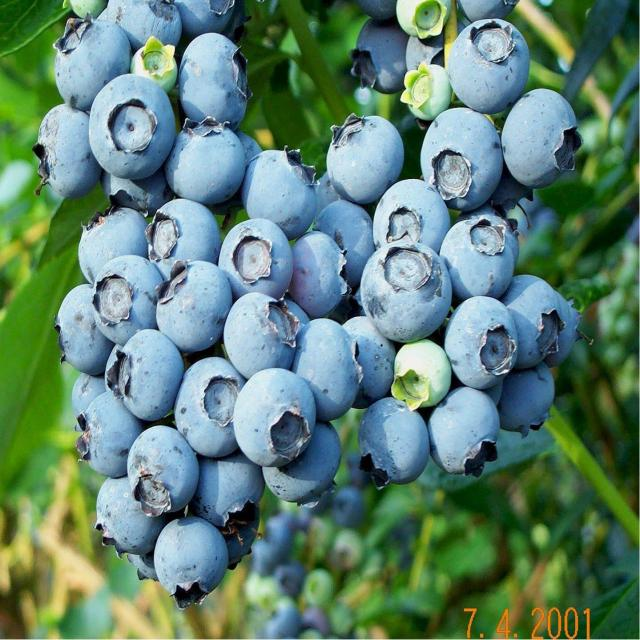BlueBerry - v1: (82, 65, 180, 185), (356, 232, 459, 342), (228, 359, 321, 473), (414, 100, 506, 213), (495, 81, 587, 192), (41, 4, 138, 109), (260, 410, 354, 516), (442, 11, 534, 114), (149, 254, 239, 358), (425, 377, 509, 487), (170, 350, 252, 462), (172, 26, 257, 134), (105, 323, 190, 430), (123, 419, 210, 523), (356, 388, 437, 498), (146, 514, 238, 610), (288, 311, 367, 422), (70, 377, 148, 489), (167, 111, 255, 210), (217, 288, 305, 386), (237, 141, 324, 240), (27, 98, 110, 200), (437, 207, 522, 305), (440, 287, 520, 391), (322, 106, 404, 205), (216, 208, 298, 307), (74, 193, 160, 286), (88, 248, 166, 350), (86, 464, 164, 566), (310, 192, 382, 301), (47, 278, 121, 381), (366, 172, 456, 256), (334, 308, 408, 409), (140, 192, 226, 278), (193, 445, 270, 539), (501, 267, 565, 376), (341, 13, 420, 95), (287, 226, 354, 320), (386, 332, 459, 414), (495, 354, 564, 440), (102, 0, 188, 60), (126, 24, 181, 96), (400, 52, 454, 121), (392, 2, 454, 49), (176, 1, 244, 42)
